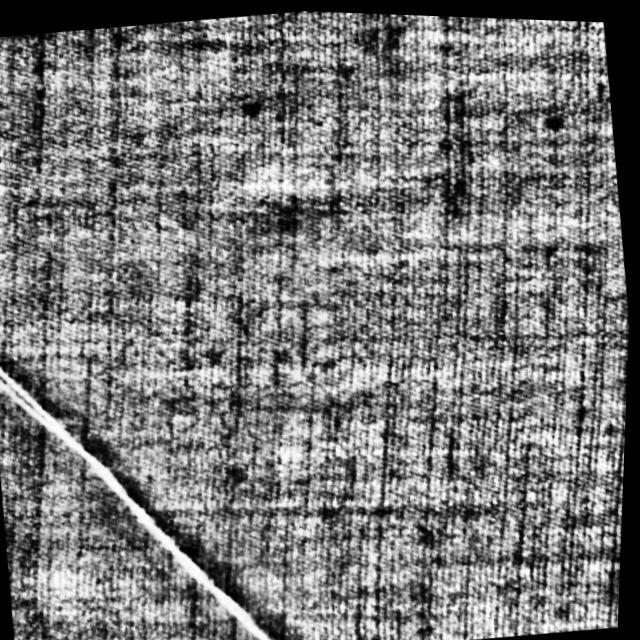Stitch: (0, 295, 321, 640)
